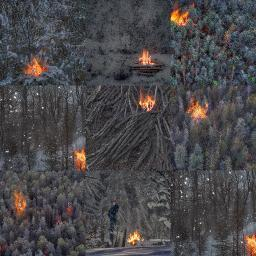Small fire: (21, 53, 53, 83), (135, 87, 161, 119), (168, 2, 197, 29), (134, 46, 161, 72), (183, 98, 211, 123), (8, 190, 32, 219), (69, 146, 93, 170), (121, 228, 149, 248), (239, 230, 256, 256), (59, 201, 75, 219)
